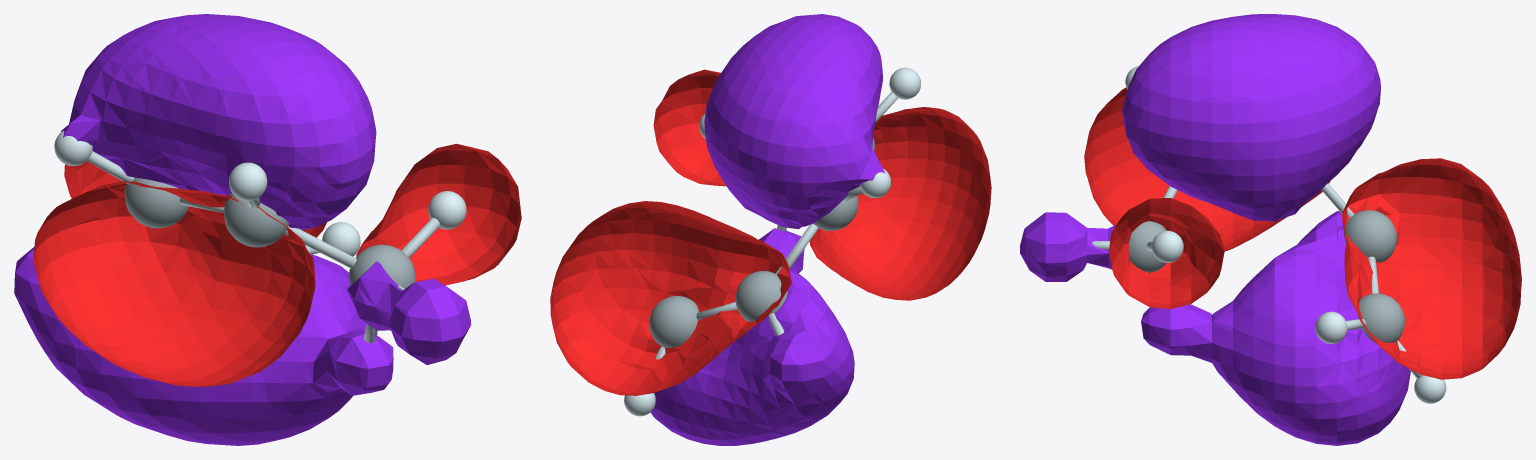
The picture shows the model from 3 angles, left to right: view 1: azimuth 30°, elevation 25°; view 2: azimuth 150°, elevation 25°; view 3: azimuth 270°, elevation 25°; orthographic projection. The views are drawn at different scales.
Visible parts, largest first — view 1: Renderer Node; view 2: Renderer Node; view 3: Renderer Node.
Part boxes in pixels (box(x1,y1,x2,y2)): Renderer Node: box(14, 14, 521, 445); Renderer Node: box(550, 14, 991, 445); Renderer Node: box(1020, 14, 1521, 445).
Size of the model in its own units: 4.96 by 5.26 by 6.22.
